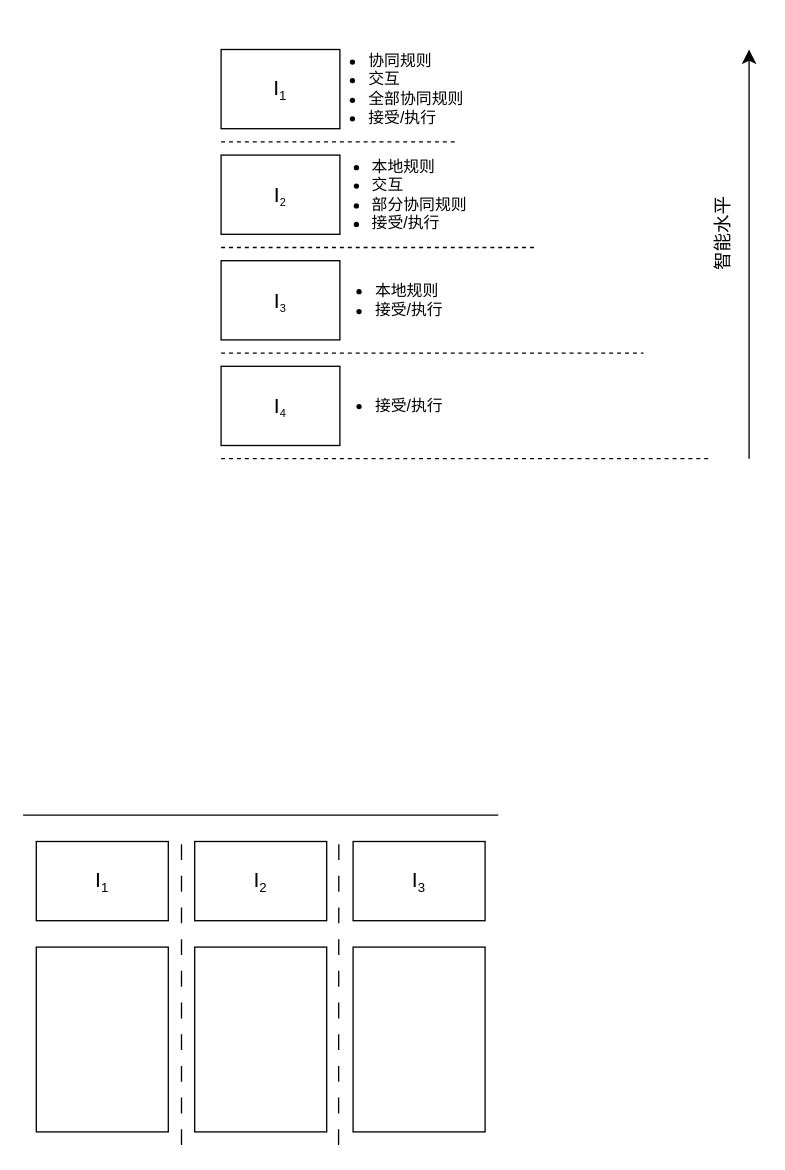
Image size: 785x1170. Some labels were removed from this diagram. The shapes that lost their labels are listed below. From the top down, each one's centre as x and y in pixels, then its label:
point (101, 1039): 1.几乎没有如何智能能力。 2.智能接受命令进行执行。 3.卫星仅为“执行器”。
point (260, 1039): 1.具有局部决策能力。 2.可以自我感知新的任务。 3.可以与其他卫星进行信息交互。
point (418, 1039): 1.具有全局感官。 2.强大的星上运算能力。 3.可执行部分地面系统功能。
